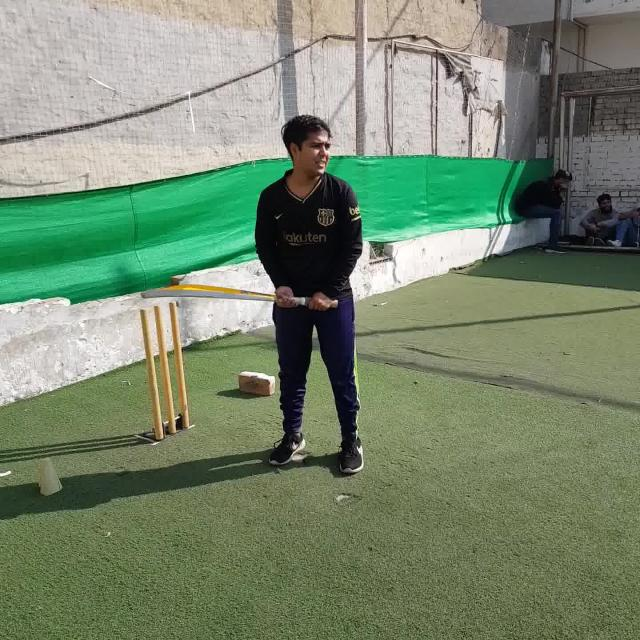bat: (141, 283, 339, 308)
